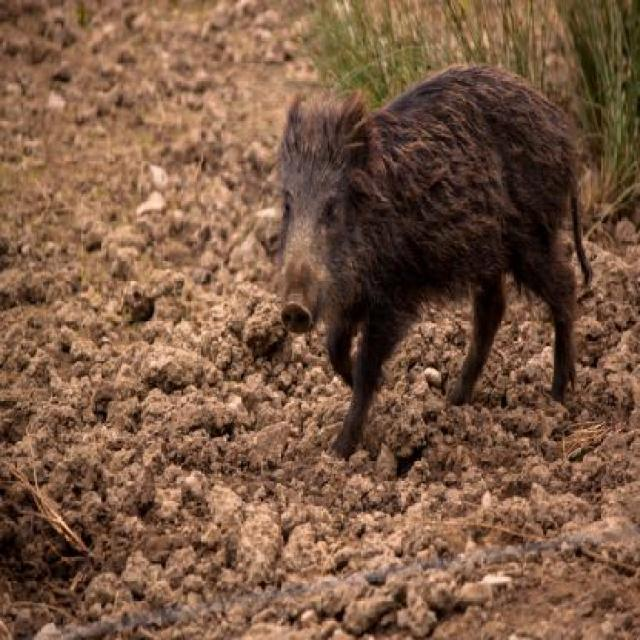pig: (266, 58, 594, 464)
